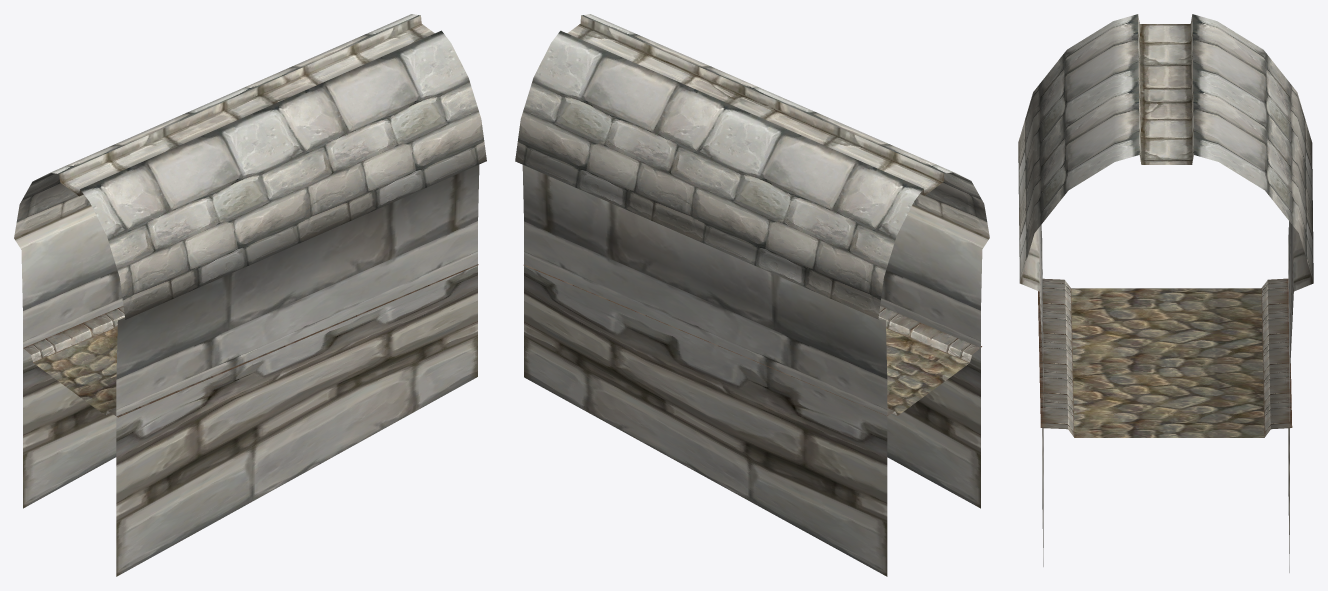
Rendered from stormwind_000.fbx.
The picture shows the model from 3 angles, left to right: view 1: azimuth 30°, elevation 25°; view 2: azimuth 150°, elevation 25°; view 3: azimuth 270°, elevation 25°; orthographic projection. The views are drawn at different scales.
Parts seen in each view (by area): view 1: stormwind_000_11, stormwind_000_4, stormwind_000_5, stormwind_000_46, stormwind_000_12; view 2: stormwind_000_11, stormwind_000_4, stormwind_000_5, stormwind_000_46, stormwind_000_12; view 3: stormwind_000_4, stormwind_000_46, stormwind_000_12, stormwind_000_5, stormwind_000_11.
Part boxes in pixels (x1,y1,x2,y2): stormwind_000_11: [14, 165, 479, 576]; stormwind_000_4: [14, 14, 486, 319]; stormwind_000_5: [59, 15, 434, 196]; stormwind_000_46: [34, 327, 117, 415]; stormwind_000_12: [23, 264, 478, 417]; stormwind_000_11: [522, 165, 989, 576]; stormwind_000_4: [515, 14, 989, 318]; stormwind_000_5: [567, 15, 944, 195]; stormwind_000_46: [886, 328, 969, 415]; stormwind_000_12: [523, 264, 981, 415]; stormwind_000_4: [1018, 14, 1313, 282]; stormwind_000_46: [1071, 288, 1264, 437]; stormwind_000_12: [1038, 278, 1292, 437]; stormwind_000_5: [1138, 14, 1193, 164]; stormwind_000_11: [1020, 221, 1313, 572].
Size of the model in its own units: 18.91 by 21.51 by 10.12.
